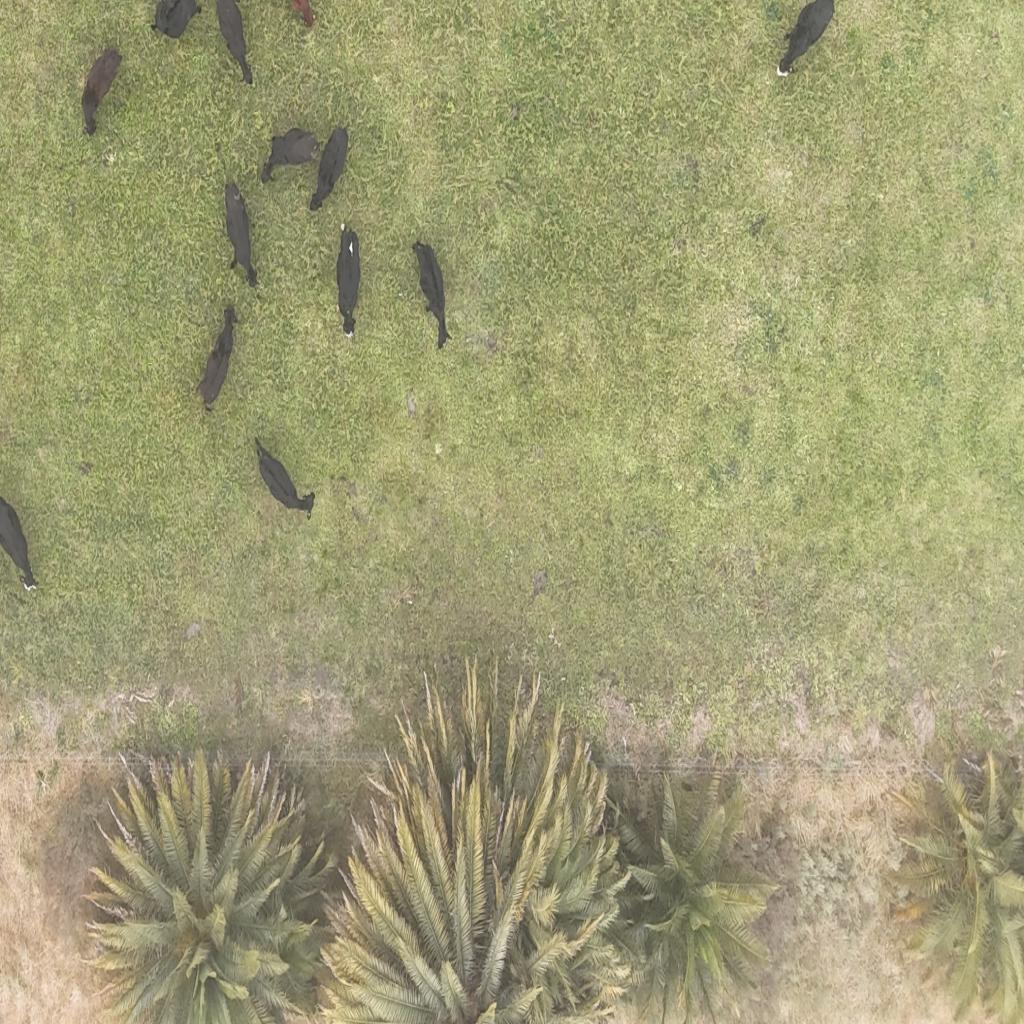cow: (769, 0, 841, 84), (254, 438, 316, 520), (197, 310, 239, 412), (415, 240, 453, 350), (0, 494, 39, 594), (82, 46, 123, 138), (224, 180, 257, 291), (213, 0, 253, 86), (260, 130, 320, 186), (310, 126, 348, 213), (336, 226, 360, 338), (150, 1, 200, 41)
